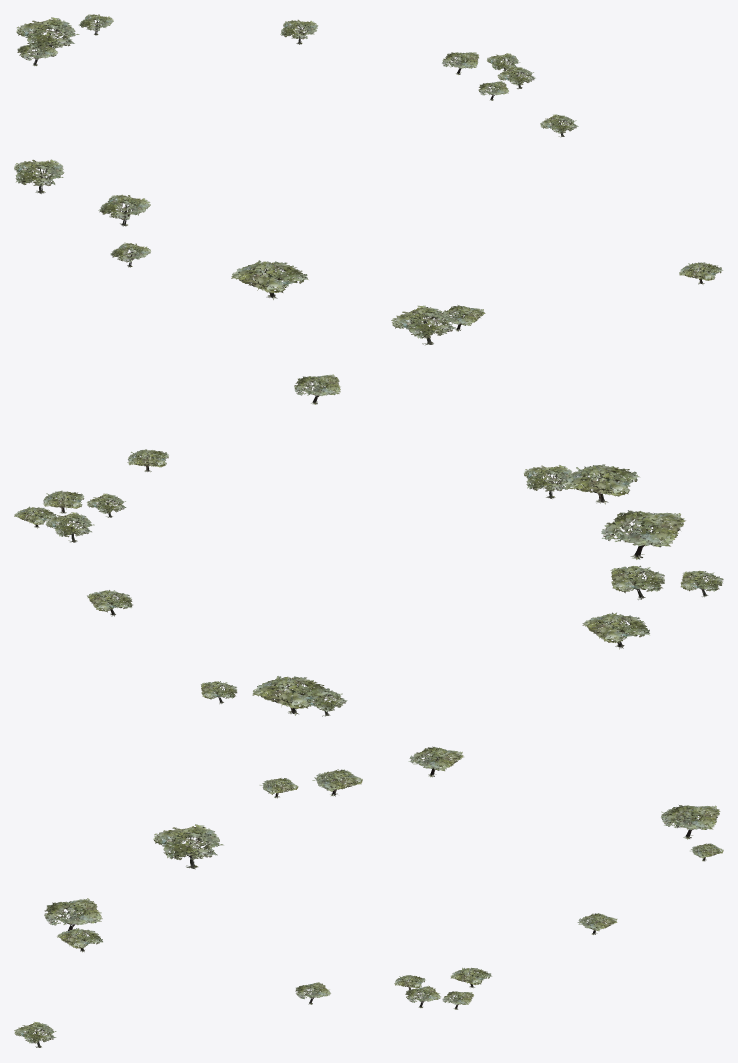
The model's file is Arbol02.glb.
3 renders of one model, top to bottom at view 1: azimuth 30°, elevation 25°; view 2: azimuth 150°, elevation 25°; view 3: azimuth 270°, elevation 25°, orthographic. The views are drawn at different scales.
Parts seen in each view (by area): view 1: temp_mesh.ply.897; view 2: temp_mesh.ply.897; view 3: temp_mesh.ply.897.
Boxes of the visible parts, x1=… form: temp_mesh.ply.897: x1=14, y1=14, x2=723, y2=345; temp_mesh.ply.897: x1=14, y1=374, x2=723, y2=716; temp_mesh.ply.897: x1=14, y1=746, x2=723, y2=1047.
Size of the model in its own units: 76.41 by 14.35 by 93.55.
Materials: 1 (1 with a texture image).
